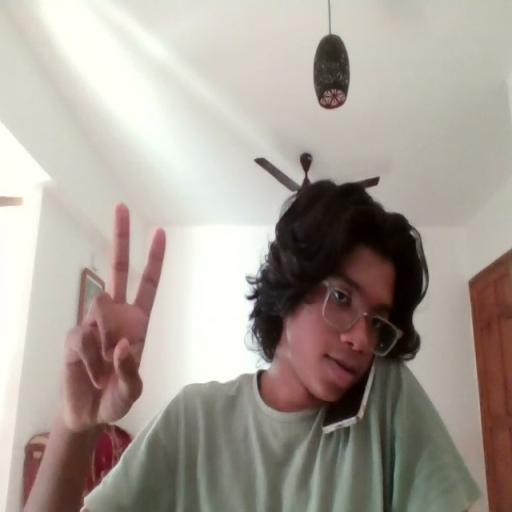scissor: (55, 197, 168, 428)
